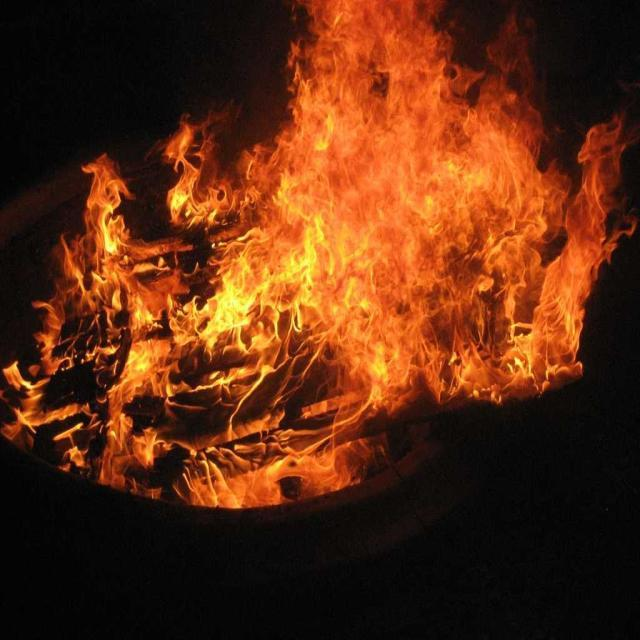Fire: (326, 110, 535, 378)
